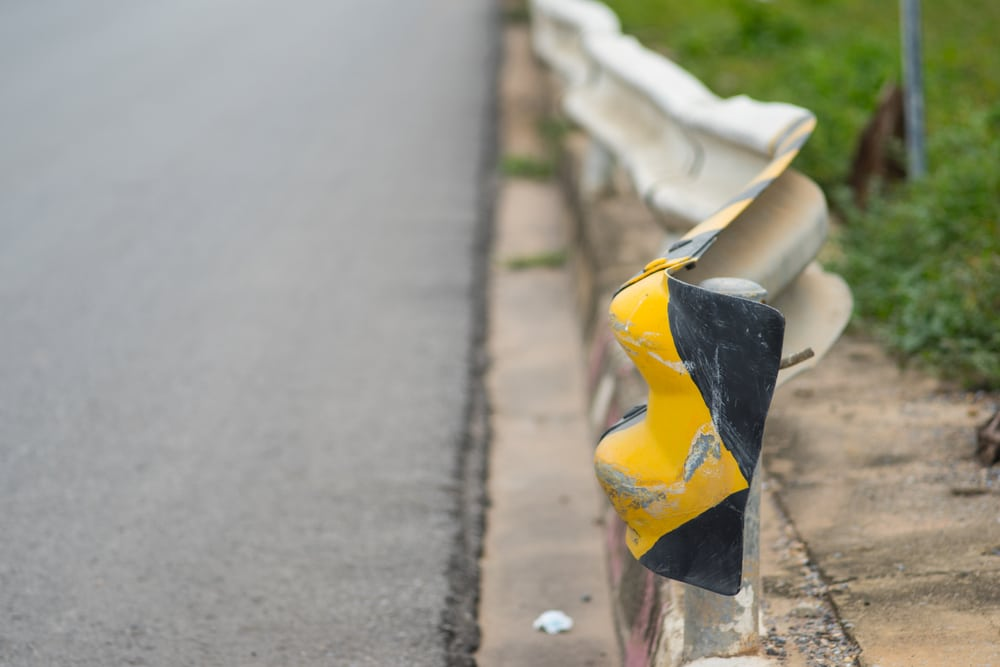damaged: (511, 3, 862, 667)
